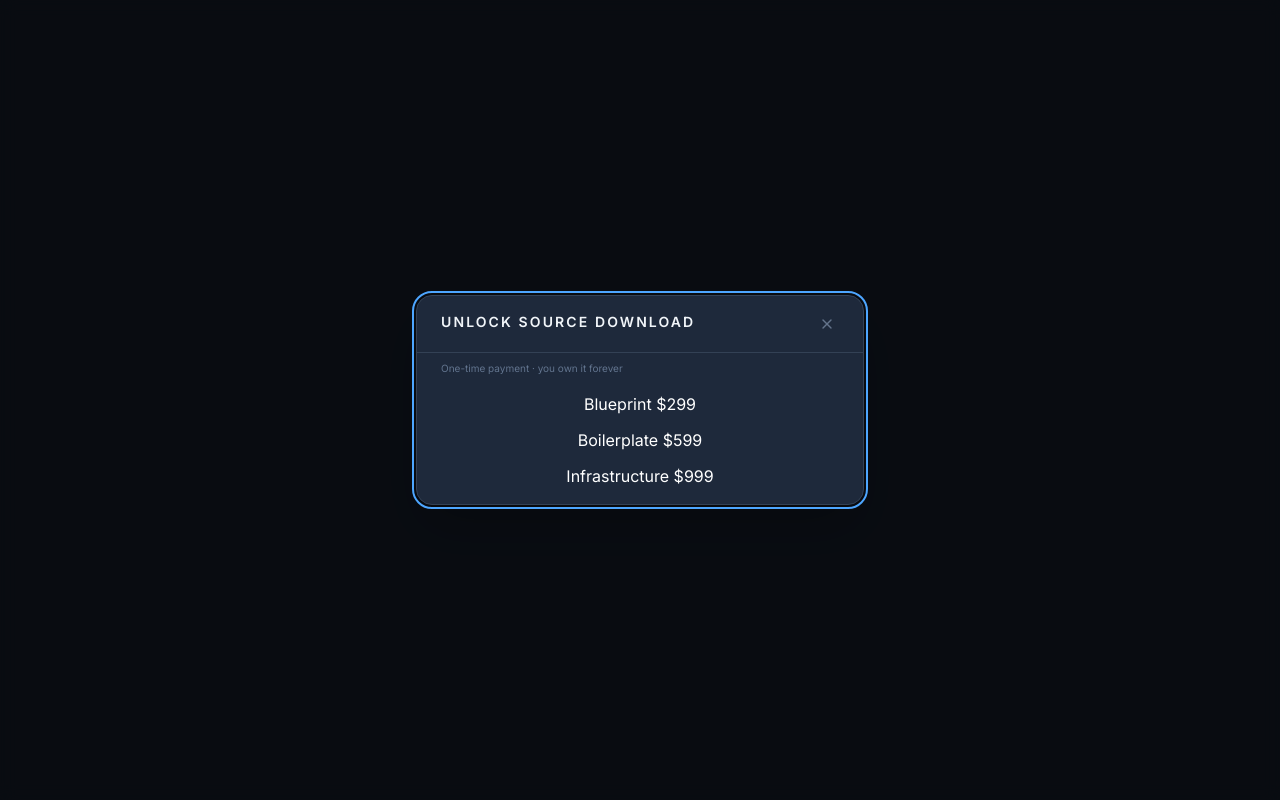
Test: UpgradeModal (Modal-wrapped) › shows inline error when checkout fails
What coordinates should you click on to do the following:
click the button with test id "upgrade-tier-1"
I would click on:
 (640, 404)
Its box is [441,392,839,416].
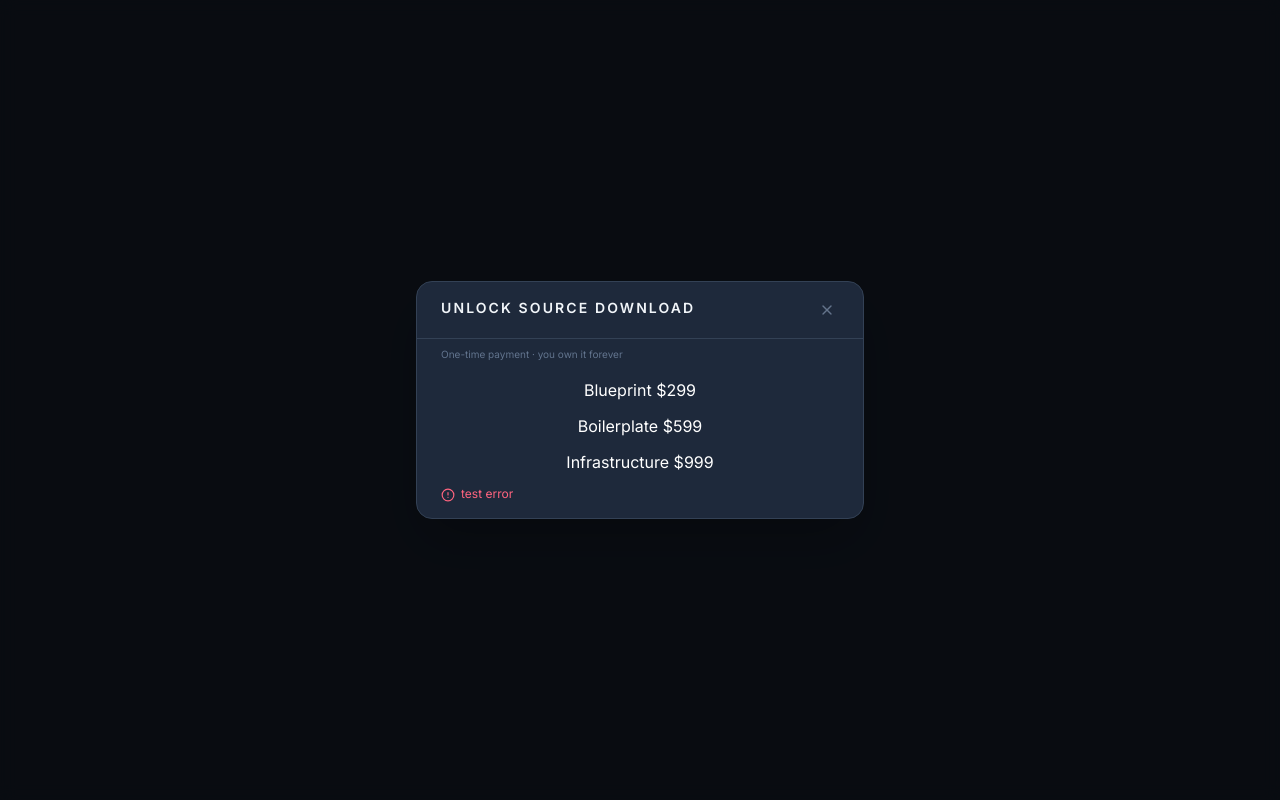
Now the element with test id "upgrade-error" is shown, box [441,486,513,502]
